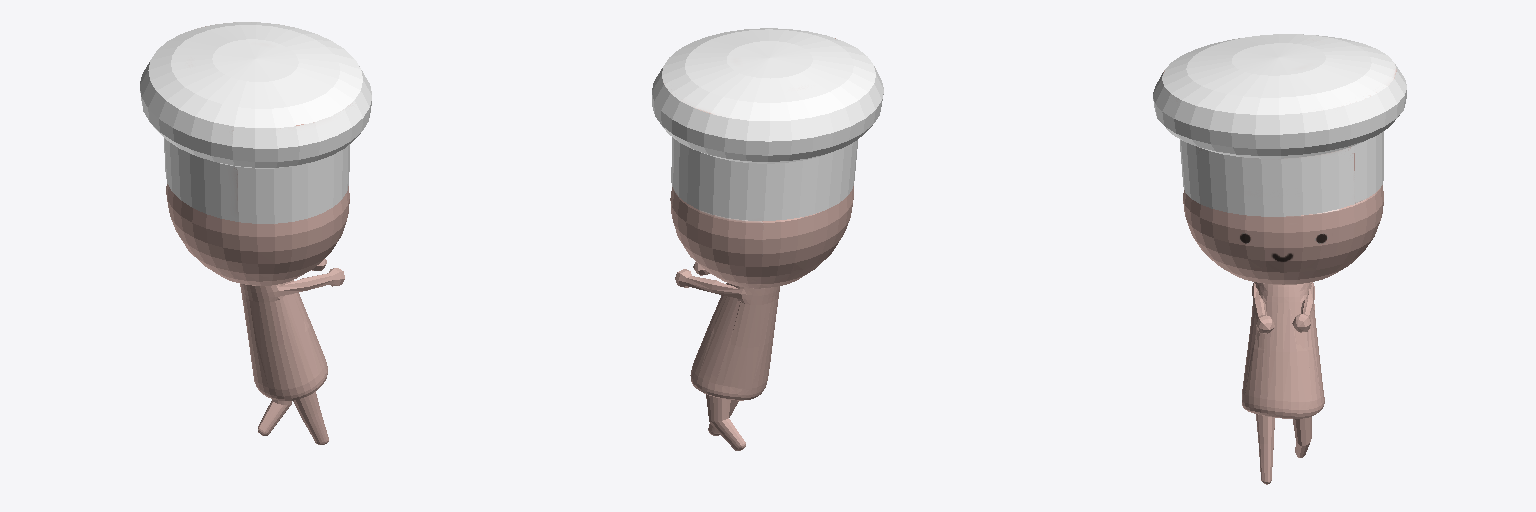
3 renders of one model, left to right at view 1: azimuth 30°, elevation 25°; view 2: azimuth 150°, elevation 25°; view 3: azimuth 270°, elevation 25°, orthographic.
Visible parts, largest first — view 1: Sphere; view 2: Sphere; view 3: Sphere.
Part boxes in pixels (bbox=[...]): Sphere: bbox=[140, 22, 371, 444]; Sphere: bbox=[652, 28, 883, 450]; Sphere: bbox=[1153, 34, 1406, 484].
Bounding box in the file's own units: 1.56 × 3.03 × 1.77.
Materials: 1 (1 with a texture image).